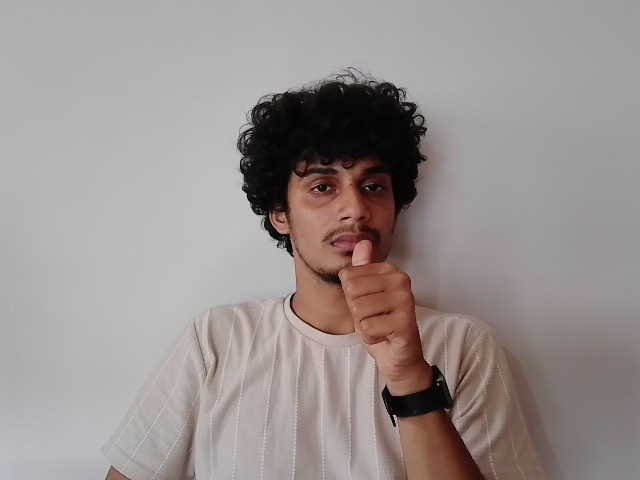drink: (262, 152, 433, 351)
